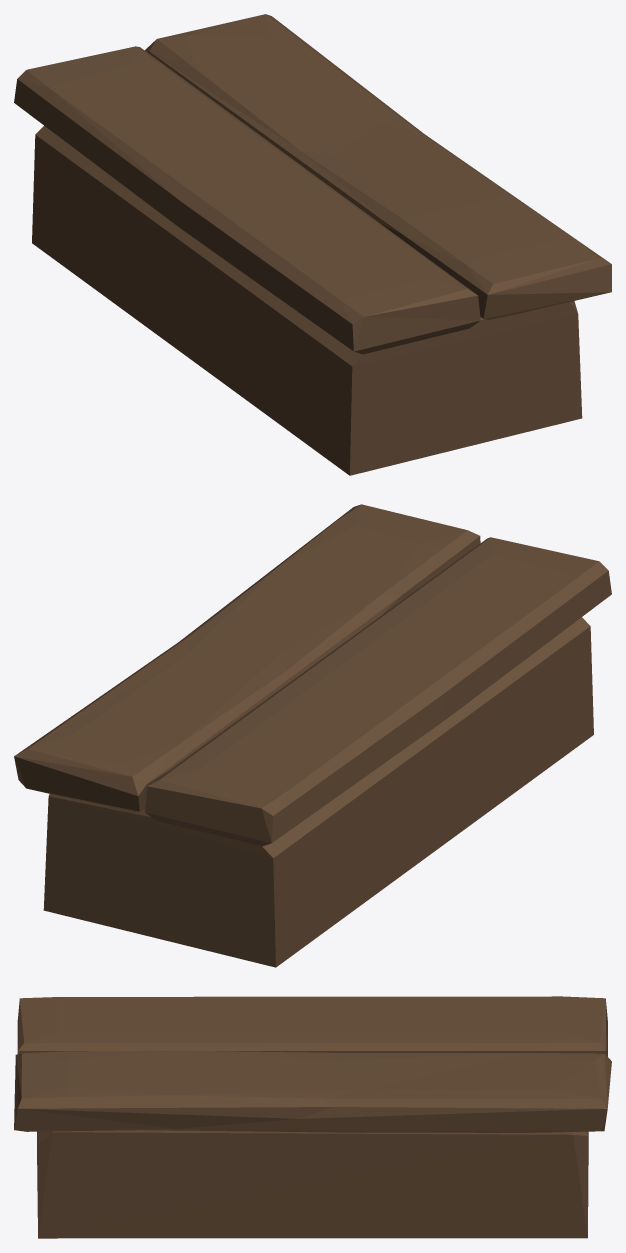
The model's file is Mueble_Mesa_01.fbx.
3 views of the same model, one above another, from view 1: azimuth 30°, elevation 25°; view 2: azimuth 150°, elevation 25°; view 3: azimuth 270°, elevation 25° (orthographic). The views are drawn at different scales.
Parts seen in each view (by area): view 1: Mesa; view 2: Mesa; view 3: Mesa.
Part boxes in pixels (bbox=[...]): Mesa: bbox=[14, 14, 611, 475]; Mesa: bbox=[14, 504, 611, 967]; Mesa: bbox=[14, 996, 611, 1238].
Size of the model in its own units: 73.65 by 44.9 by 167.
